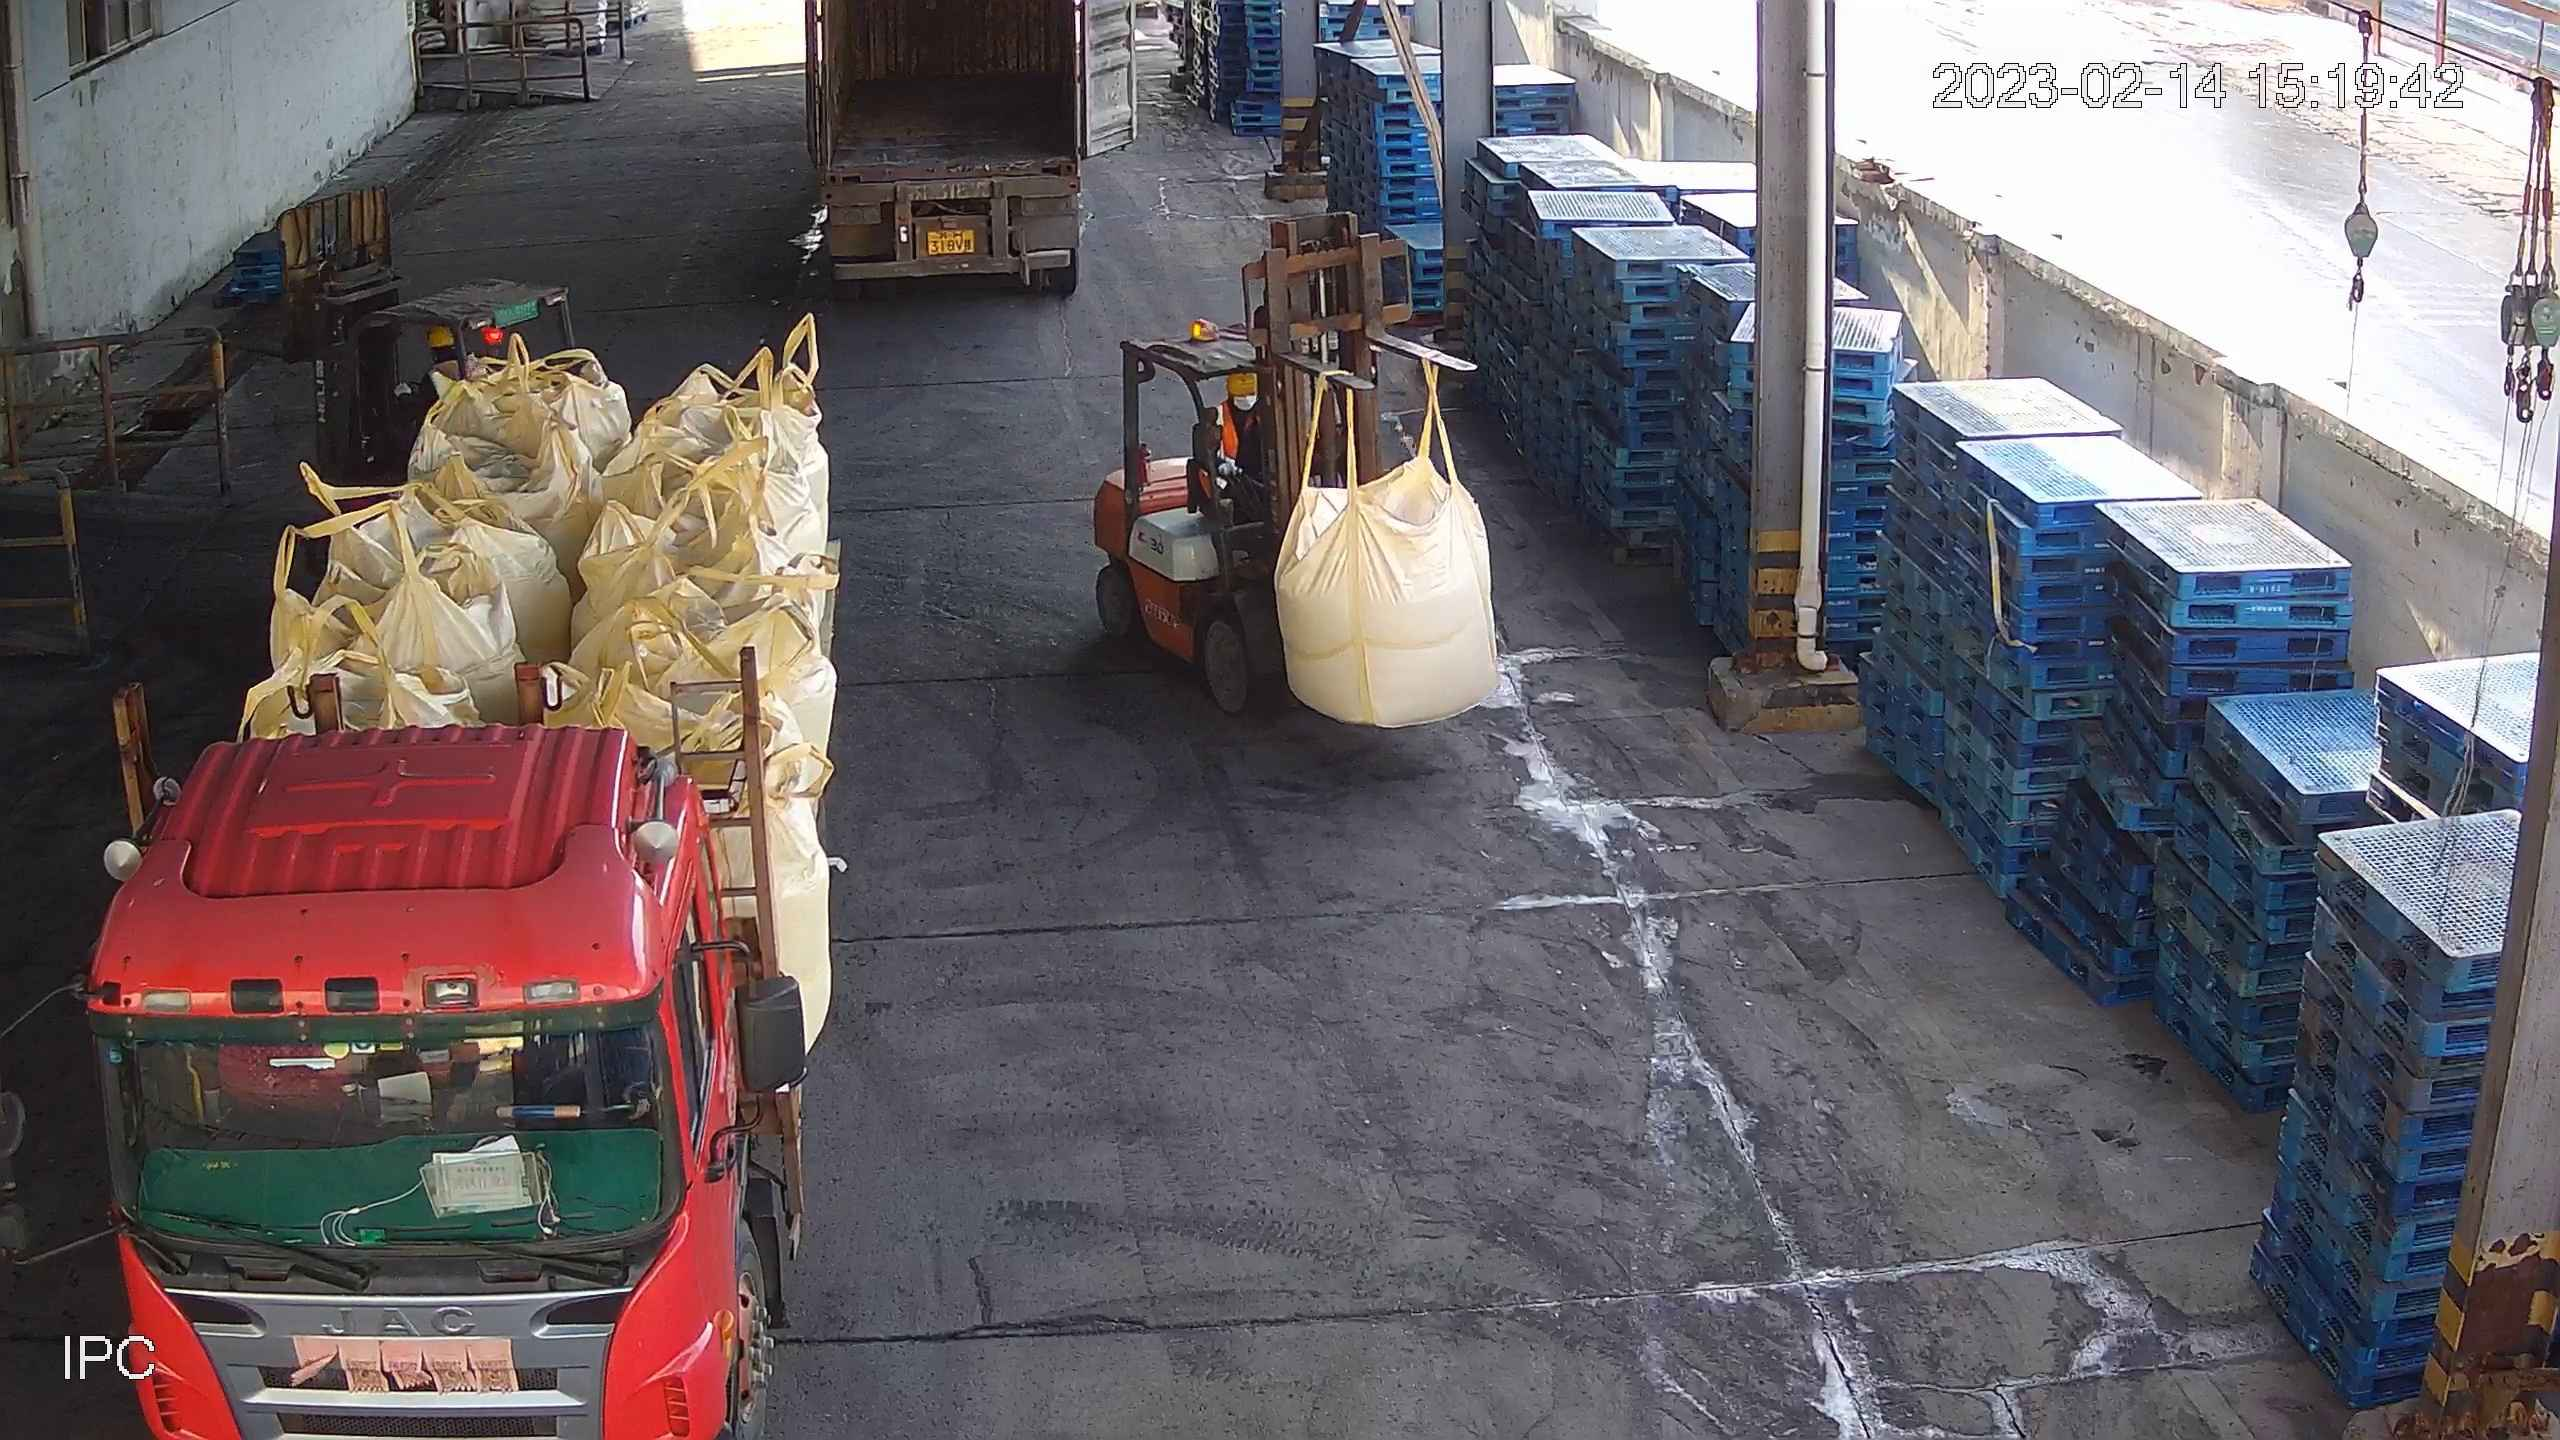head: (1197, 372, 1271, 434)
helmet: (425, 327, 462, 353), (1223, 367, 1256, 397)
truck: (46, 332, 844, 1440), (789, 1, 1110, 324)
